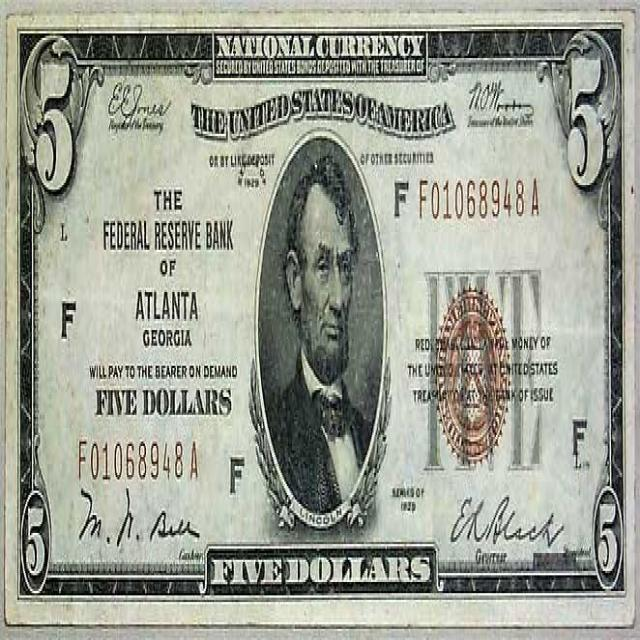5-Front: (7, 16, 636, 624)
